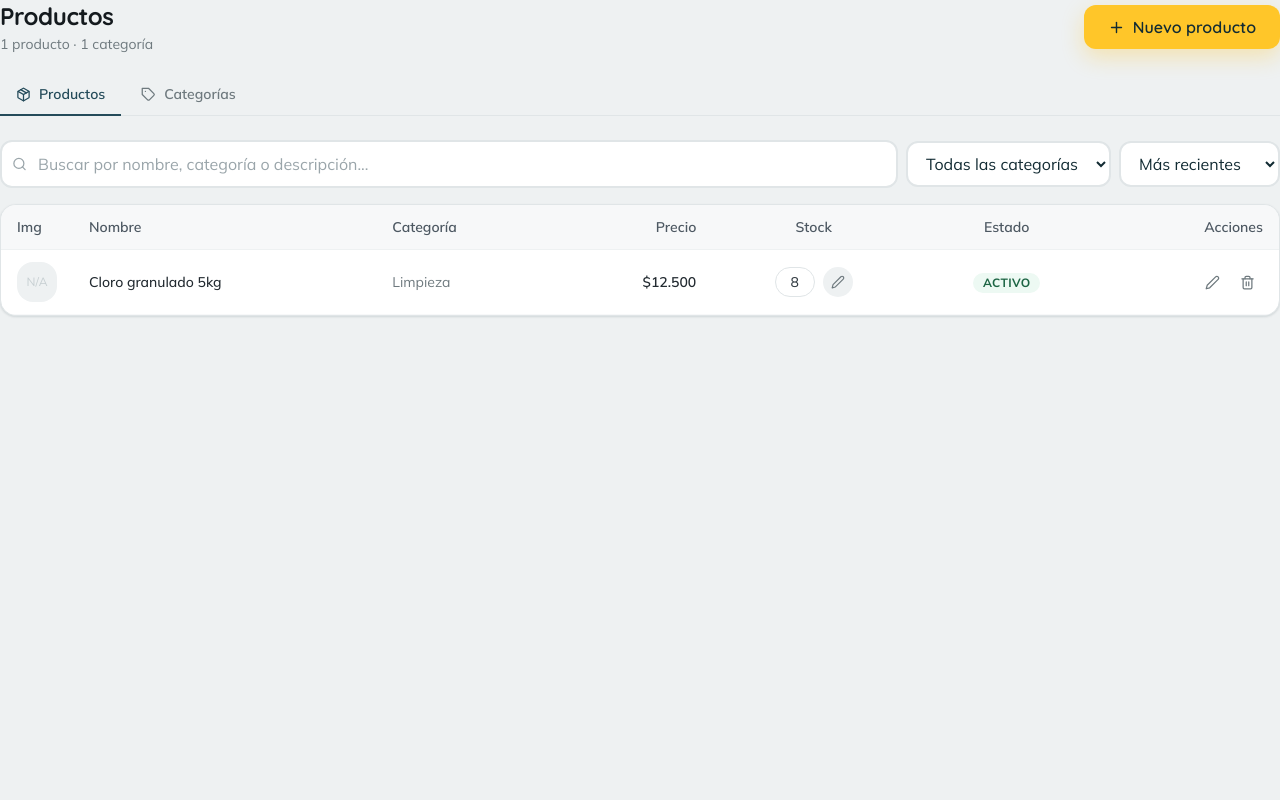
Test: AdminProducts — CRUD › permite crear una categoría nueva sin salir del formulario de producto
The width and height of the screenshot is (1280, 800).
Check: the text "Cloro granulado 5kg" is shown, box [89,273,222,291]
Click the button "Nuevo producto".
click(1182, 27)  # box [1084,5,1279,49]
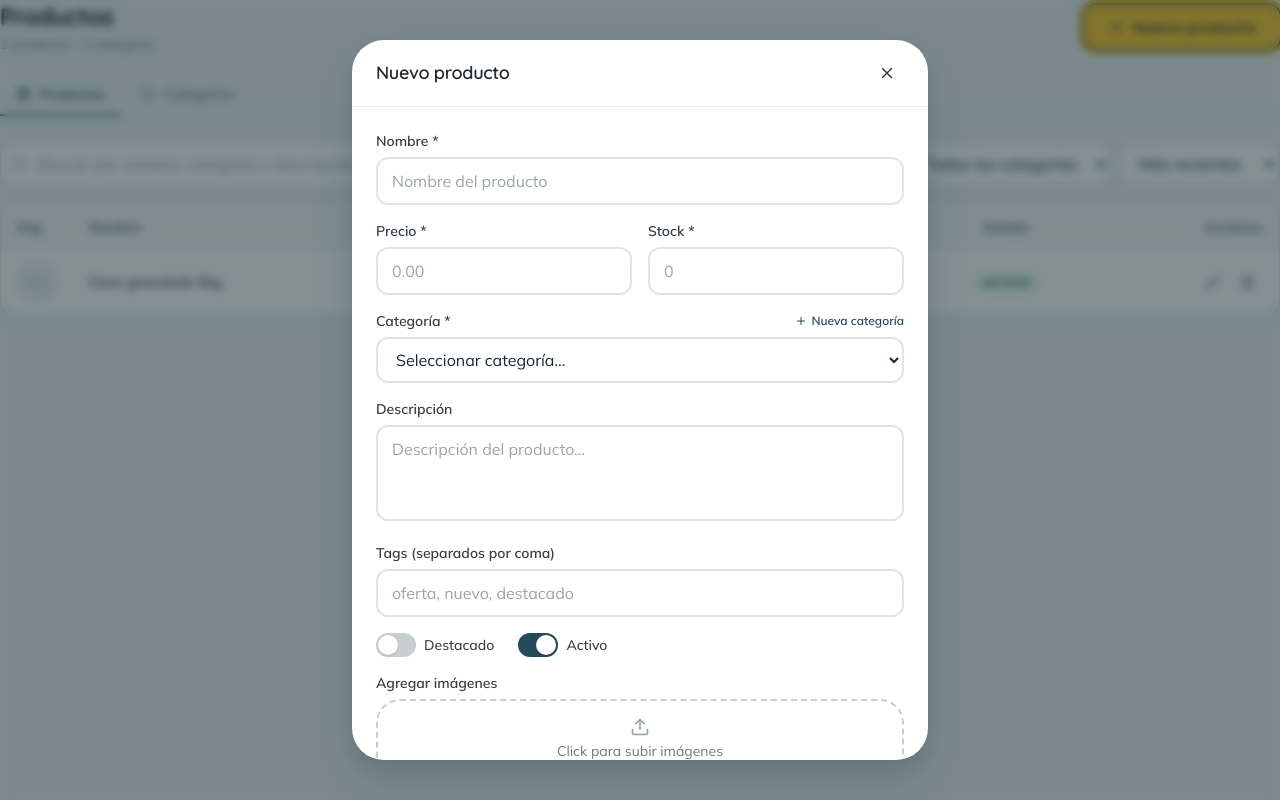
Click the button "Nueva categoría".
click(850, 321)  # box [795,313,904,329]
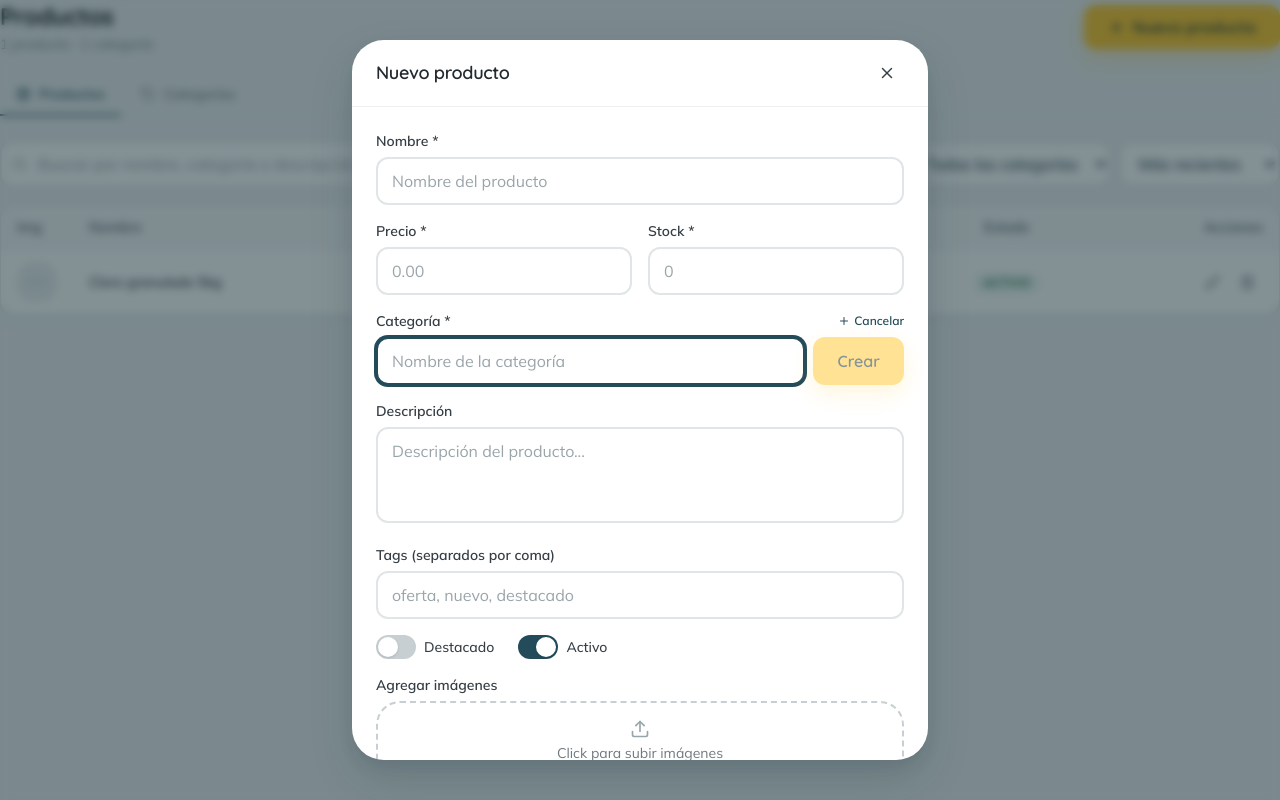
Type "Bombas y filtros" into the field with placeholder "Nombre de la categoría".
click(591, 361); type("Bombas y filtros")  # box [376,337,806,385]
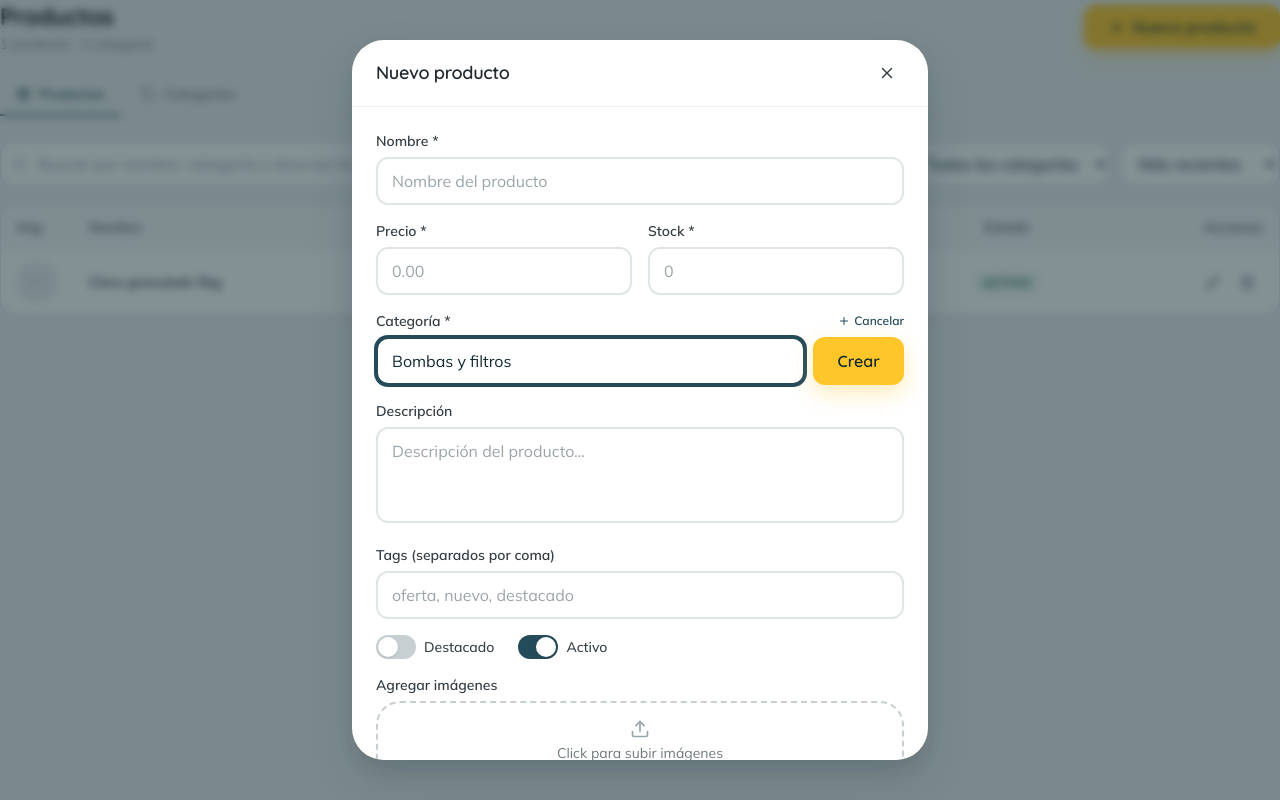
Click the button "Crear".
click(859, 361)  # box [814,337,904,385]
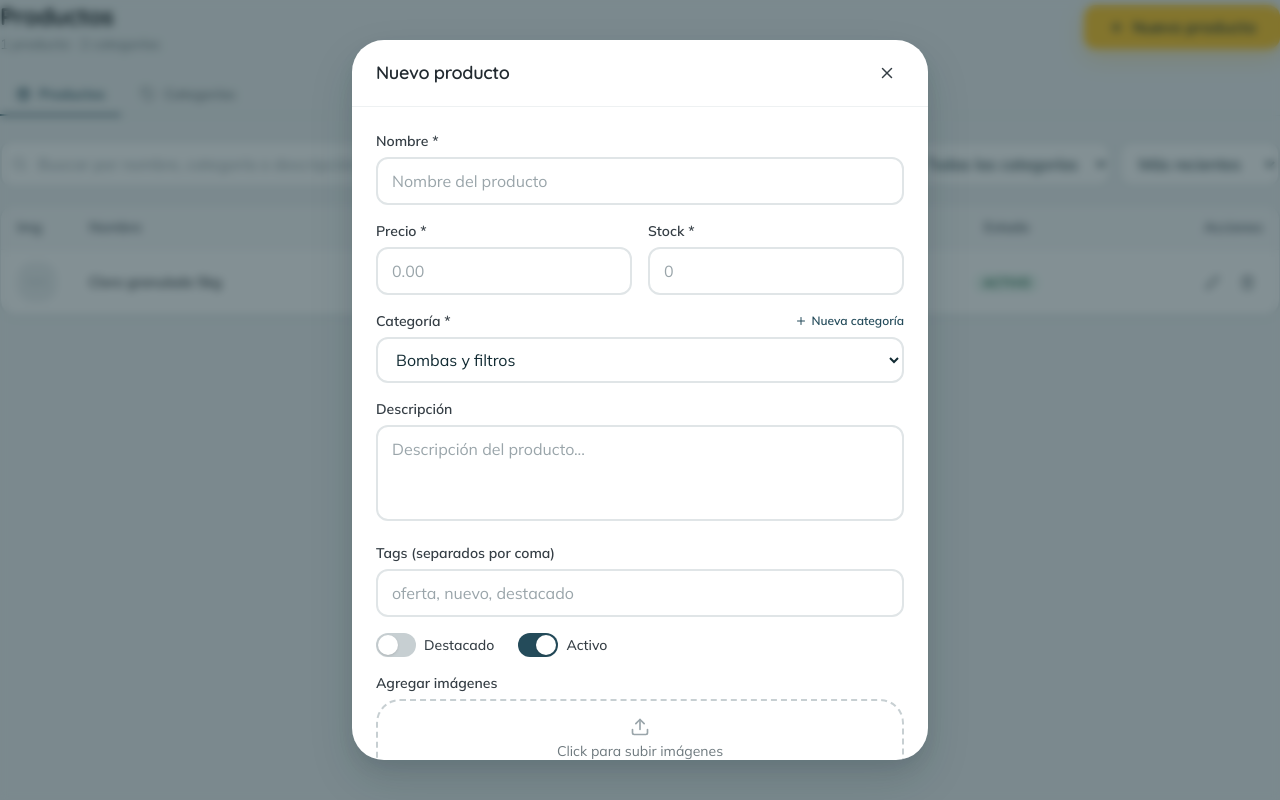
Check: the dropdown labelled "Categoría *" shows "Bombas y filtros", box [376,337,904,383]
